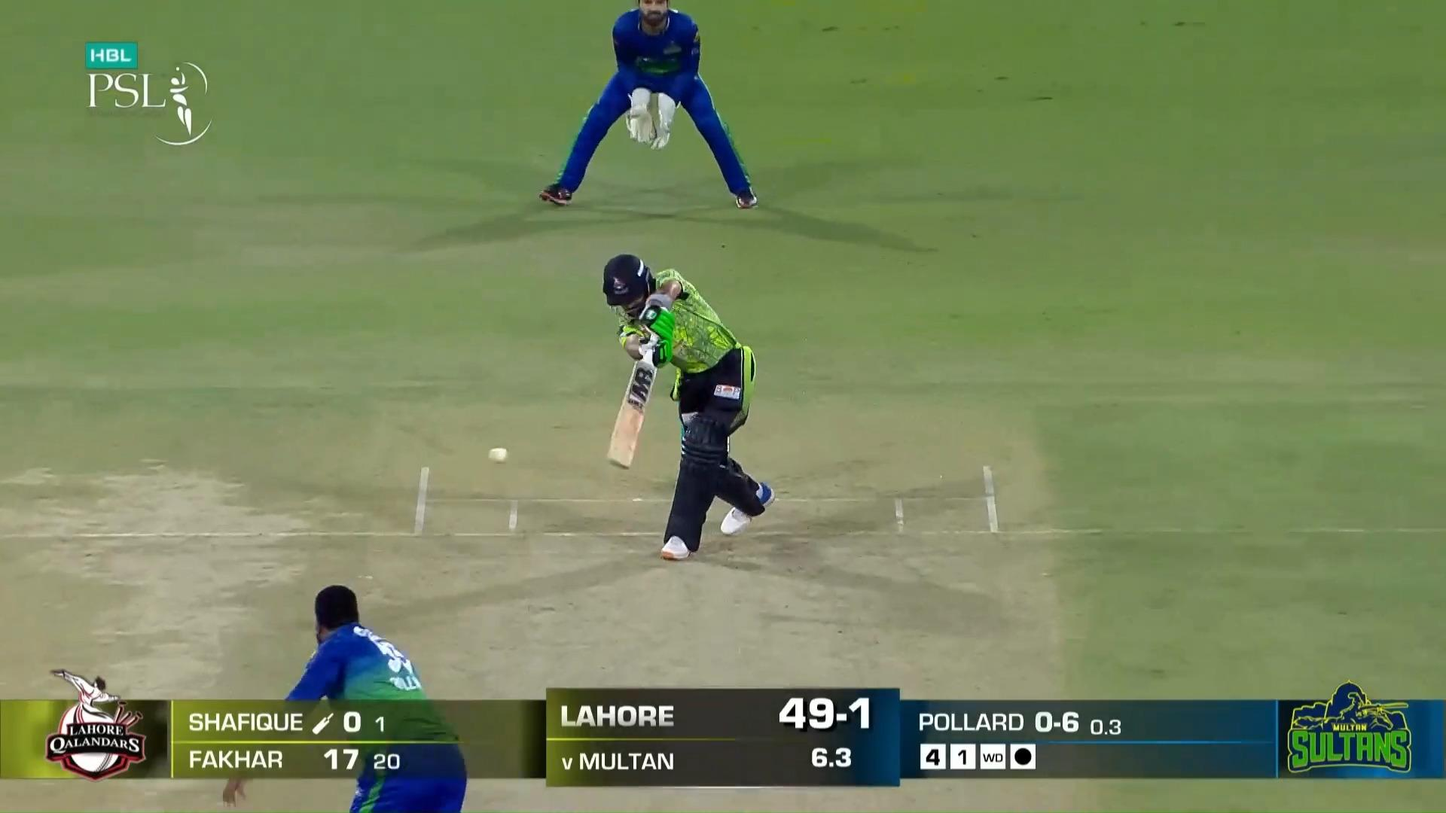batsman: (601, 254, 776, 561)
